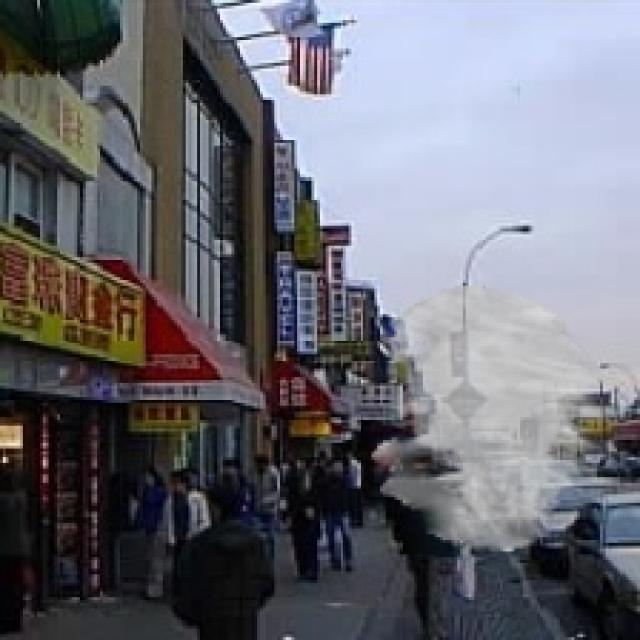Smoke: (372, 286, 612, 552)
